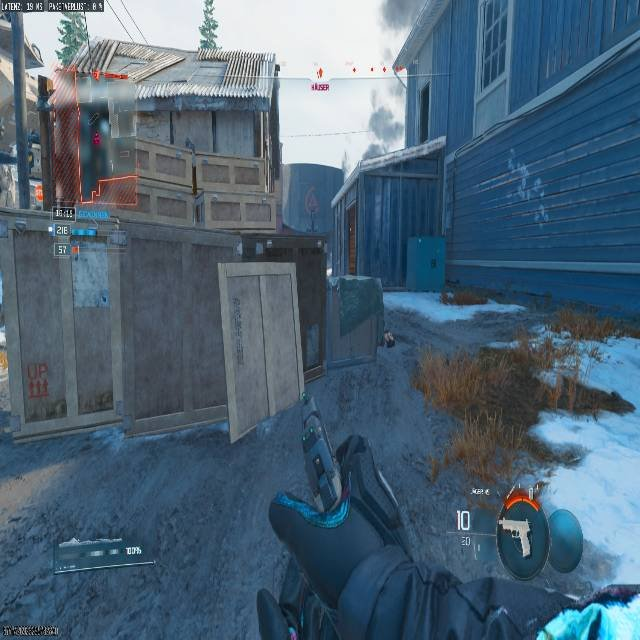player: (381, 329, 395, 349)
